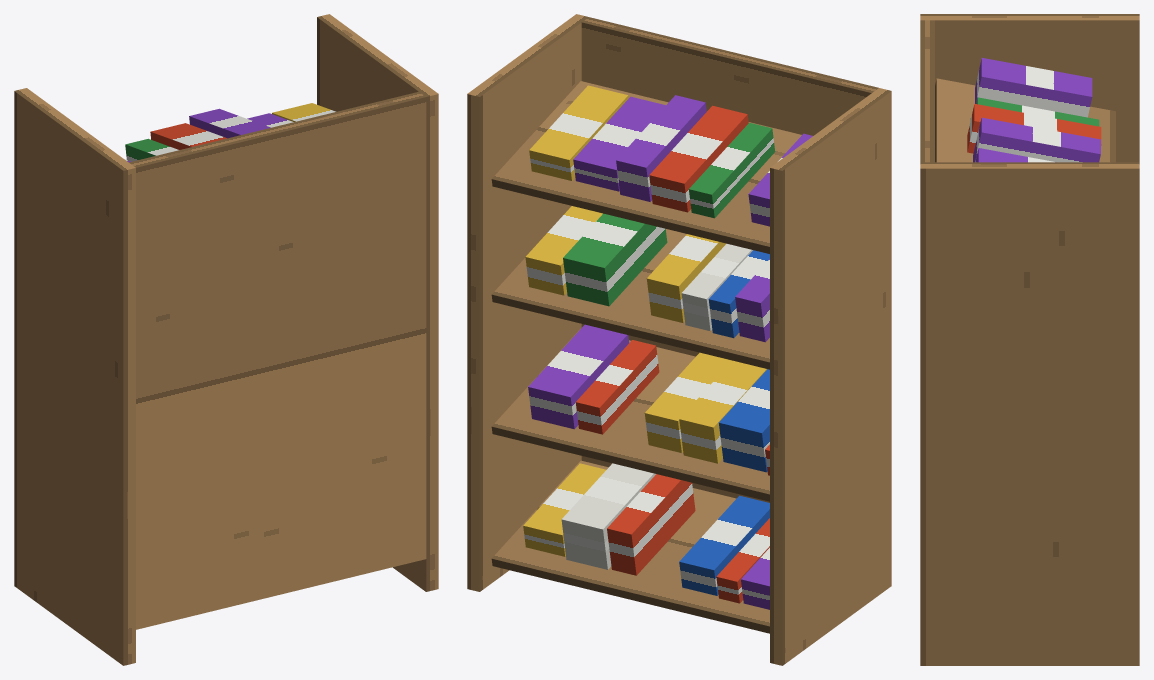
Rendered from f_rack_wood.glb.
3 renders of one model, left to right at view 1: azimuth 30°, elevation 25°; view 2: azimuth 150°, elevation 25°; view 3: azimuth 270°, elevation 25°, orthographic.
Parts seen in each view (by area): view 1: block_back, block_side-0.5, block_side0.46, block_goods3-0.007, block_goods3-0.129, block_goods3-0.212, block_goods30.246; view 2: block_side-0.5, block_side0.46, block_back, block_shelf0, block_shelf1, block_shelf3, block_shelf2, block_goods20.127, block_goods00.043, block_goods10.238, block_goods00.132, block_goods3-0.129 (+18 smaller); view 3: block_side0.46, block_side-0.5, block_goods3-0.440, block_shelf3, block_goods3-0.007, block_back, block_goods3-0.129, block_goods3-0.212, block_goods30.099.
Part boxes in pixels (x1,y1,x2,y2): block_back: (129, 91, 426, 629); block_side-0.5: (14, 88, 135, 665); block_side0.46: (317, 14, 438, 591); block_goods3-0.007: (189, 108, 270, 138); block_goods3-0.129: (150, 123, 226, 149); block_goods3-0.212: (125, 138, 178, 161); block_goods30.246: (272, 103, 335, 121); block_side-0.5: (770, 88, 891, 665); block_side0.46: (467, 14, 588, 591); block_back: (581, 17, 878, 502); block_shelf0: (491, 460, 769, 633); block_shelf1: (491, 329, 769, 501); block_shelf3: (491, 81, 801, 253); block_shelf2: (491, 229, 769, 369); block_goods20.127: (563, 213, 667, 306); block_goods00.043: (607, 474, 695, 575); block_goods10.238: (528, 324, 629, 429); block_goods00.132: (561, 463, 655, 569); block_goods3-0.129: (649, 105, 748, 212); block_side0.46: (920, 162, 1139, 665); block_side-0.5: (920, 14, 1139, 162); block_goods3-0.440: (975, 58, 1092, 117); block_shelf3: (935, 78, 1115, 162); block_goods3-0.007: (973, 117, 1100, 162); block_back: (920, 20, 934, 162); block_goods3-0.129: (967, 103, 1101, 153); block_goods3-0.212: (976, 97, 1099, 126); block_goods30.099: (975, 148, 1055, 162).
Bounding box in the file's own units: 1 × 1.5 × 0.6.
1 material, 1 textured.
